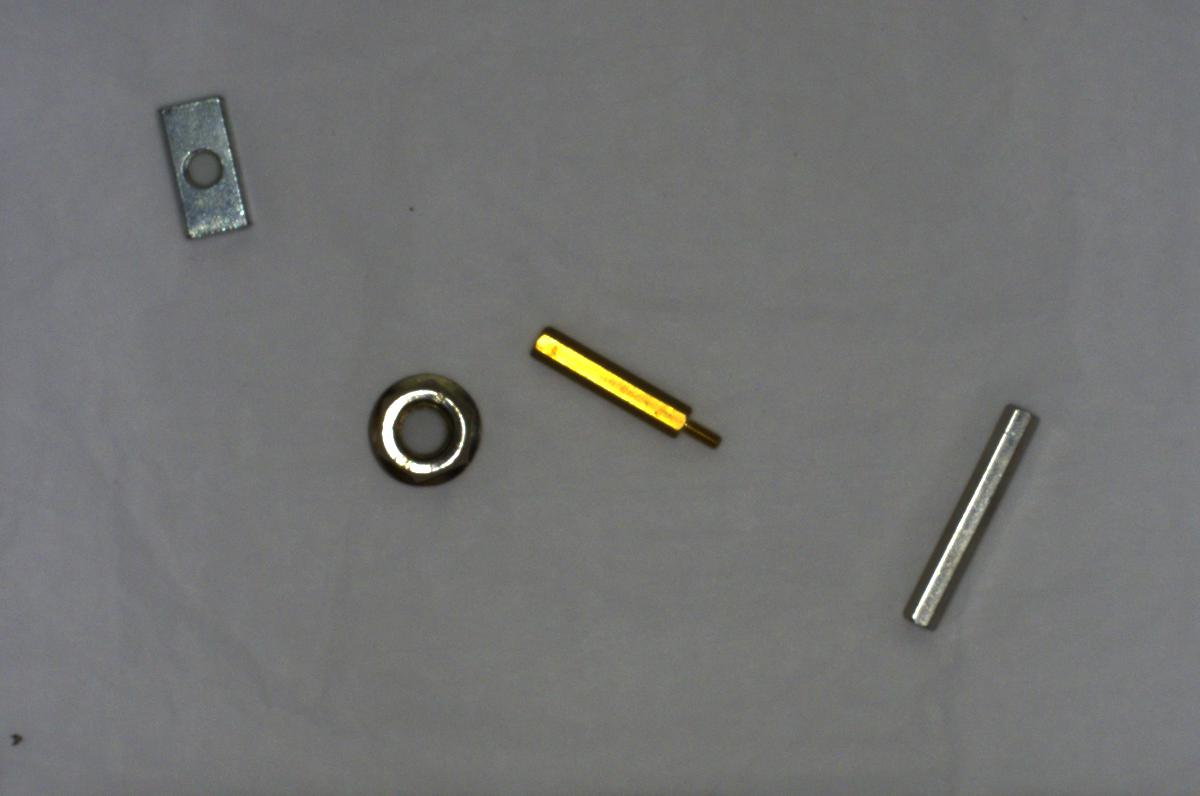Double hexagonal column: (885, 390, 1047, 641)
Flange nut: (342, 356, 493, 487)
Hexagon pillar: (519, 319, 728, 454)
Rectangular nut: (148, 81, 257, 246)
